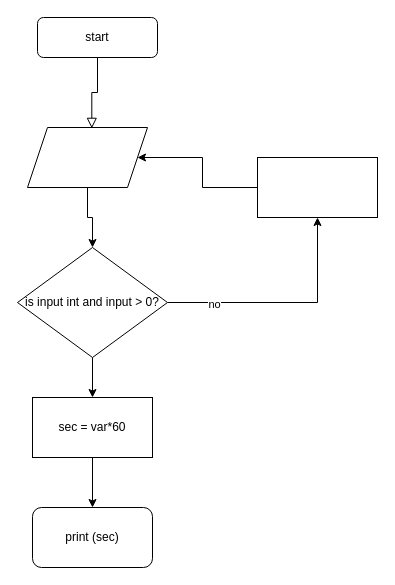
Some shapes in this 395 by 585 pixel diagram are drawn without their labels. Each missing label, with the box of its shape:
get number: (26, 126, 148, 188)
print (do it again): (256, 156, 378, 218)
